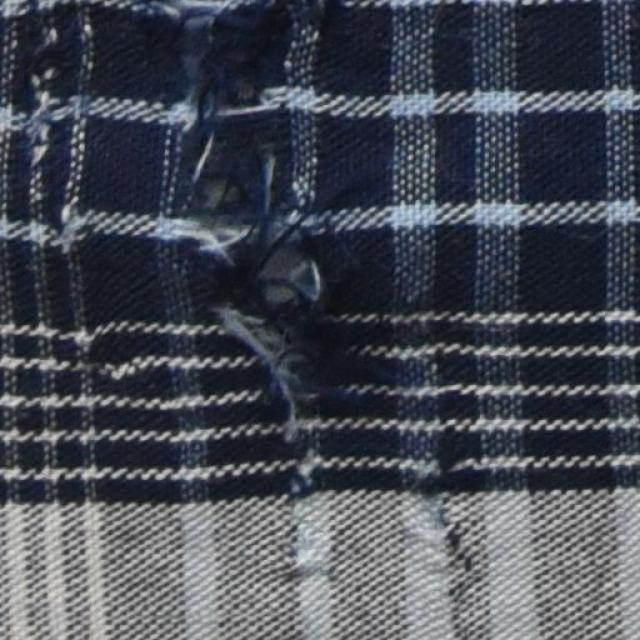Hole: (243, 241, 306, 305)
Snag: (149, 4, 303, 228), (217, 291, 335, 472), (0, 0, 85, 199)
